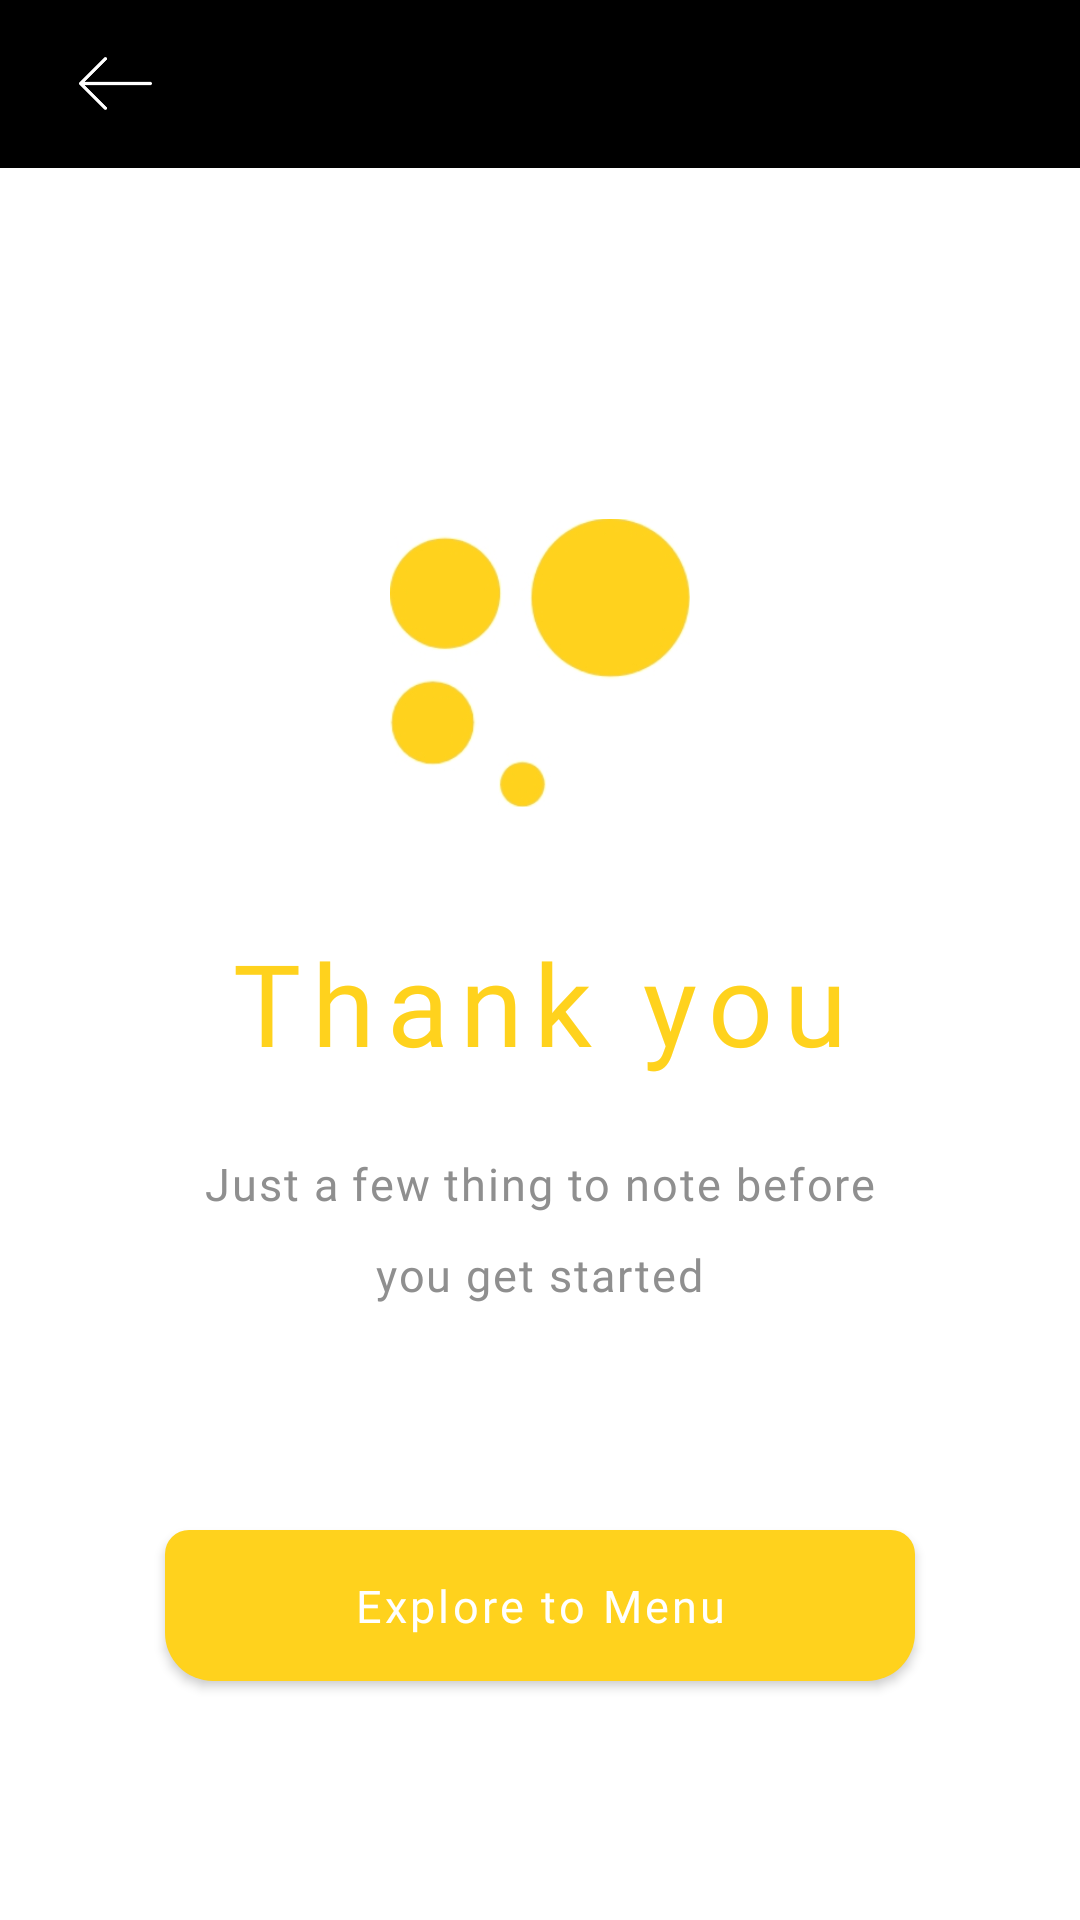

Point at icon controls on the screen. Image size 1080×1920, points as (x=x, y=y).
dot: (x=540, y=663)
left arrow: (x=115, y=83)
